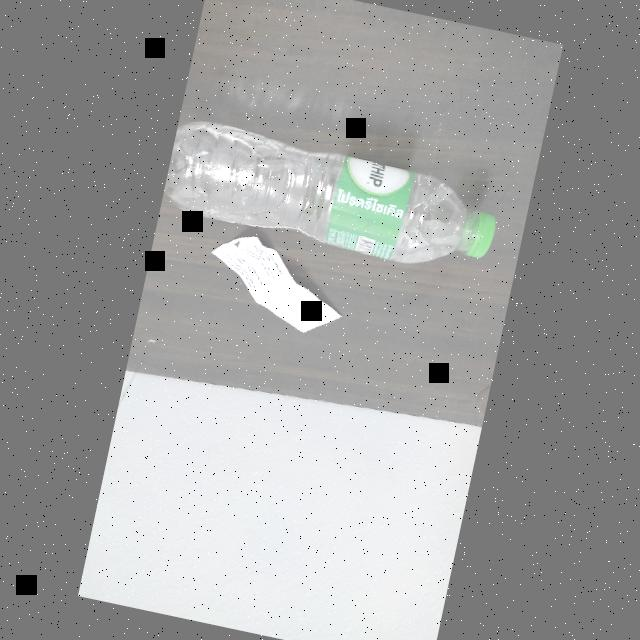plastic_bottle: (160, 110, 510, 281)
plastic_bottle_cap: (453, 208, 499, 264)
scrap_paper: (188, 226, 354, 350)
